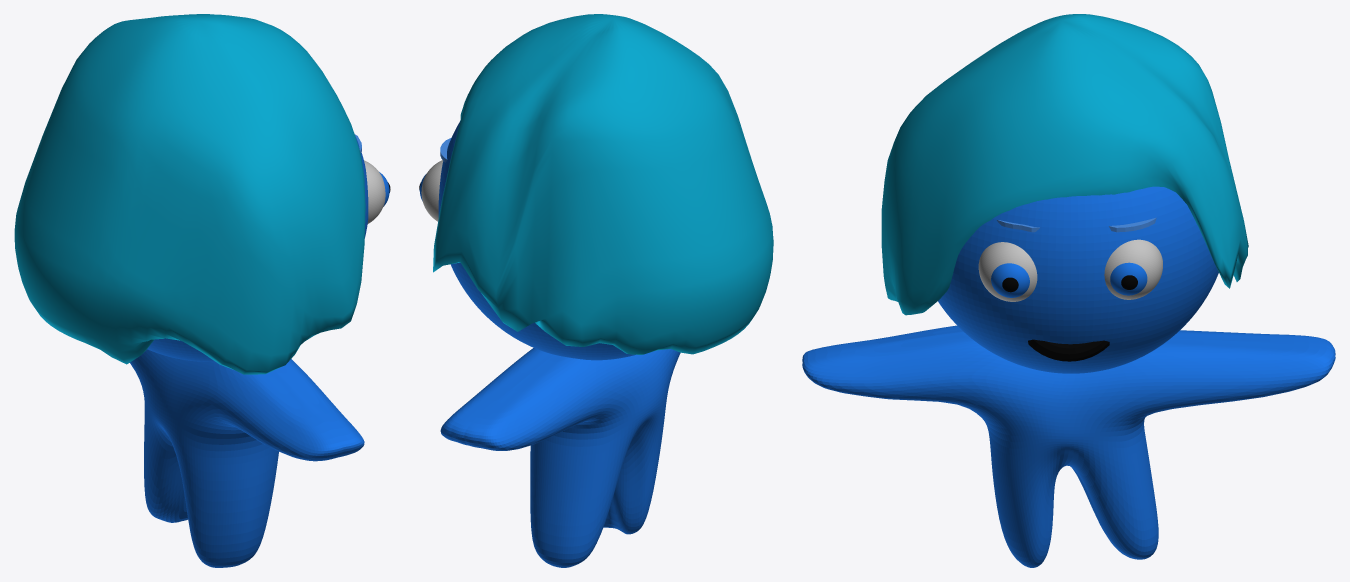
The model's file is watergirl.fbx.
3 renders of one model, left to right at view 1: azimuth 30°, elevation 25°; view 2: azimuth 150°, elevation 25°; view 3: azimuth 270°, elevation 25°, orthographic.
Visible parts, largest first — view 1: Sphere.010, Sphere.009, Sphere, Sphere.011; view 2: Sphere.010, Sphere.009, Sphere, Sphere.012; view 3: Sphere.010, Sphere.009, Sphere, Sphere.012, Sphere.011, Torus.001, Sphere.013, Sphere.014.
Part boxes in pixels (x1,y1,x2,y2): Sphere.010: (14, 14, 365, 374); Sphere.009: (130, 349, 364, 567); Sphere: (147, 137, 368, 361); Sphere.011: (364, 160, 385, 223); Sphere.010: (433, 14, 773, 354); Sphere.009: (440, 348, 680, 567); Sphere: (438, 121, 635, 360); Sphere.012: (421, 160, 443, 221); Sphere.010: (881, 14, 1248, 315); Sphere.009: (802, 325, 1335, 567); Sphere: (938, 186, 1218, 373); Sphere.012: (1104, 239, 1162, 299); Sphere.011: (978, 242, 1037, 301); Torus.001: (1028, 339, 1109, 361); Sphere.013: (991, 263, 1029, 297); Sphere.014: (1110, 262, 1147, 295).
Size of the model in its own units: 801 by 1293 by 1173.
